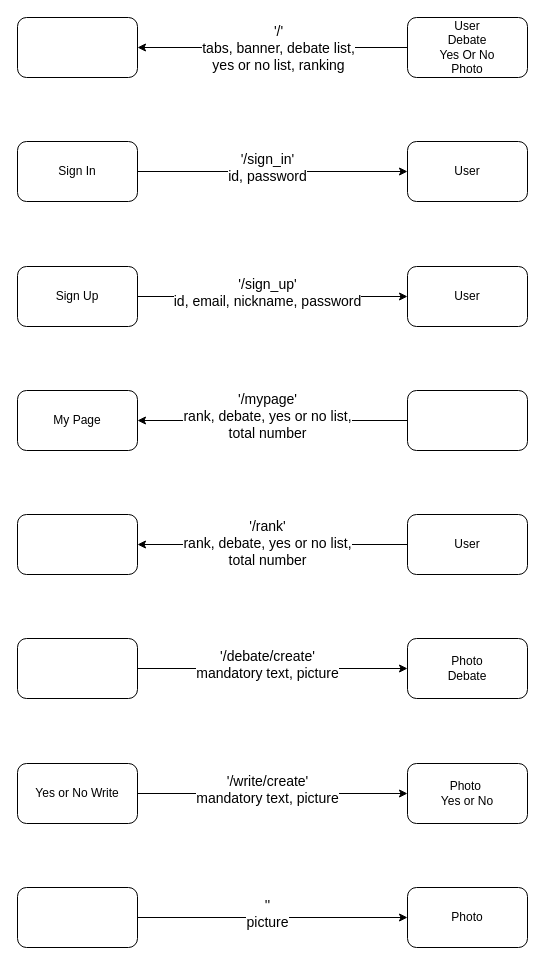
The diagram is 545 pixels wide and 965 high, and some of its shapes have lost their labels. Each missing label, with the box of its shape:
Debate Write: (16, 638, 138, 698)
Find Picture: (16, 886, 138, 948)
Main Page: (16, 16, 138, 78)
Rank: (16, 514, 138, 574)
User Yes Or No Debate: (406, 390, 528, 450)
